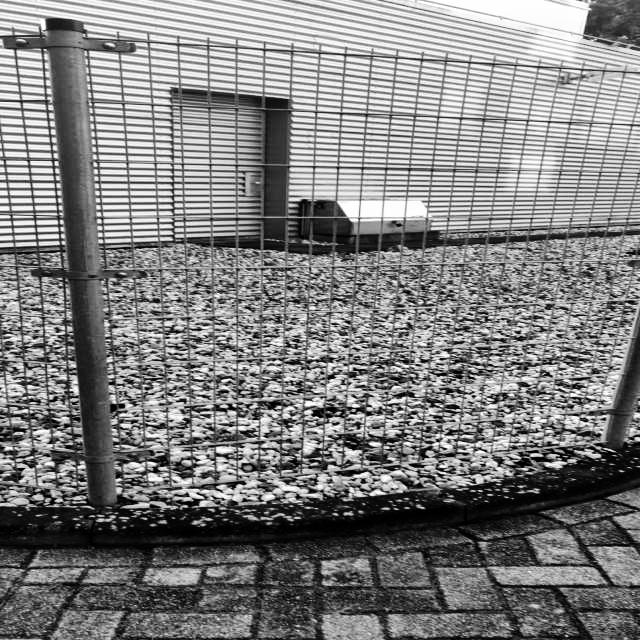fences: (3, 42, 632, 471)
